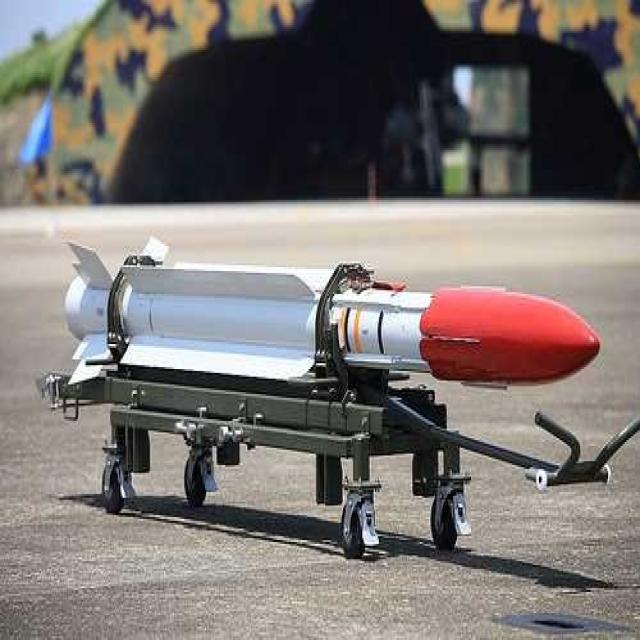missile: (64, 232, 597, 402)
